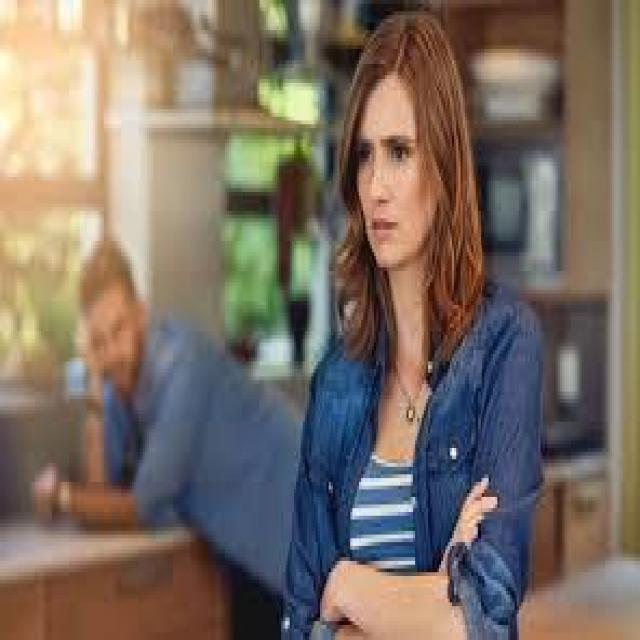person: (274, 4, 540, 636), (46, 237, 378, 595)
